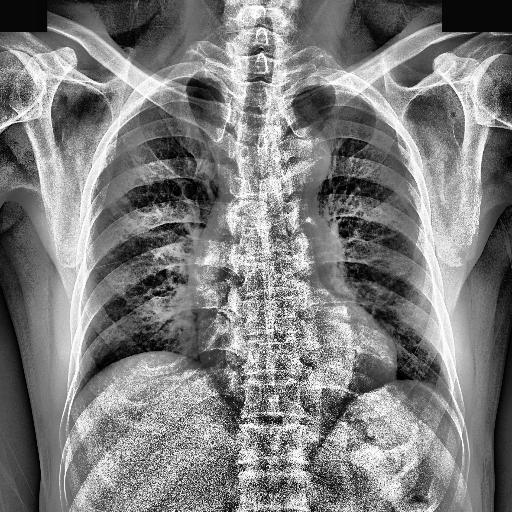0- Aortic enlargement: (267, 122, 333, 208), (269, 124, 330, 206), (262, 130, 331, 200)
3- Cardiomegaly: (194, 297, 401, 393), (195, 316, 407, 406), (194, 306, 398, 392)
